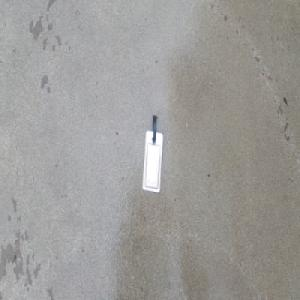LuggageTag: (140, 113, 163, 195)
